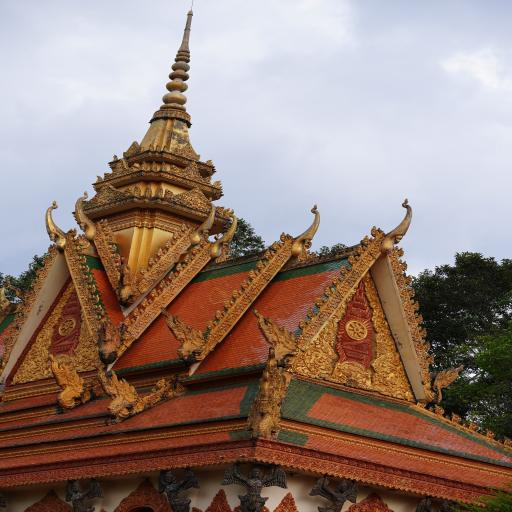lua: (380, 198, 421, 254), (286, 204, 328, 256), (209, 208, 244, 262), (188, 198, 227, 244), (74, 192, 102, 240), (42, 200, 69, 249), (0, 278, 12, 311), (368, 224, 383, 238), (460, 418, 477, 430), (478, 426, 495, 438), (331, 273, 345, 287), (354, 243, 369, 256), (446, 412, 462, 424), (347, 252, 361, 265), (412, 311, 425, 325), (298, 316, 310, 331), (393, 243, 405, 258), (496, 434, 512, 445), (246, 268, 258, 282), (304, 305, 316, 319), (362, 234, 374, 248), (397, 258, 409, 272), (400, 274, 414, 286), (403, 286, 417, 298), (416, 326, 430, 338), (423, 352, 437, 364), (430, 403, 442, 417), (203, 318, 215, 331), (338, 264, 351, 276), (315, 295, 327, 307), (323, 285, 335, 297), (420, 339, 432, 351), (410, 298, 421, 311), (68, 228, 82, 238), (34, 266, 46, 277), (82, 274, 94, 285), (157, 278, 168, 290), (221, 298, 232, 310), (85, 284, 98, 294), (263, 248, 272, 262), (277, 232, 288, 243), (80, 264, 92, 274), (214, 308, 222, 322), (28, 278, 39, 288), (46, 243, 56, 254), (148, 288, 159, 298), (122, 316, 131, 328), (230, 289, 239, 301), (0, 336, 10, 346), (6, 324, 16, 334), (72, 237, 82, 247), (76, 255, 86, 265), (138, 266, 148, 276), (182, 254, 192, 264), (131, 307, 140, 318), (189, 245, 200, 254), (255, 259, 264, 270), (140, 297, 148, 309), (239, 278, 247, 290), (41, 256, 51, 265), (91, 294, 100, 304), (92, 303, 101, 313), (174, 262, 183, 272), (180, 223, 189, 233), (74, 247, 85, 255), (148, 256, 156, 267), (164, 239, 172, 250), (272, 241, 280, 252), (13, 312, 20, 324), (171, 231, 180, 240), (167, 271, 175, 281), (156, 247, 164, 257), (198, 238, 207, 246), (18, 302, 25, 312), (24, 291, 32, 299), (229, 299, 236, 307), (138, 308, 146, 314), (148, 298, 154, 306), (156, 290, 163, 296), (174, 271, 180, 278), (146, 266, 153, 272), (154, 257, 160, 264), (213, 320, 219, 327), (254, 270, 260, 277), (262, 260, 269, 266), (270, 251, 277, 257), (221, 310, 227, 316), (238, 290, 244, 296), (286, 233, 292, 239), (166, 281, 172, 286), (186, 224, 192, 229), (198, 246, 204, 251), (205, 238, 211, 243), (246, 280, 251, 286), (278, 242, 284, 247), (190, 255, 195, 260), (130, 318, 136, 322), (171, 241, 177, 245), (182, 264, 187, 268), (179, 232, 184, 236), (163, 249, 167, 253)
ran: (242, 345, 304, 440), (247, 307, 307, 369), (156, 307, 209, 362), (89, 362, 142, 417), (48, 352, 86, 411), (430, 363, 468, 409), (96, 310, 124, 363), (117, 256, 140, 303), (8, 284, 32, 303), (222, 207, 235, 218), (143, 183, 153, 197), (155, 184, 165, 198), (132, 184, 143, 196), (158, 162, 168, 171), (213, 180, 224, 188), (162, 144, 170, 152), (150, 162, 158, 170), (141, 161, 148, 170), (206, 159, 215, 166), (147, 144, 155, 150), (155, 144, 161, 151), (112, 155, 119, 160)
than: (218, 460, 295, 512), (307, 469, 364, 512), (153, 466, 206, 512), (62, 479, 106, 512), (415, 492, 464, 512)
